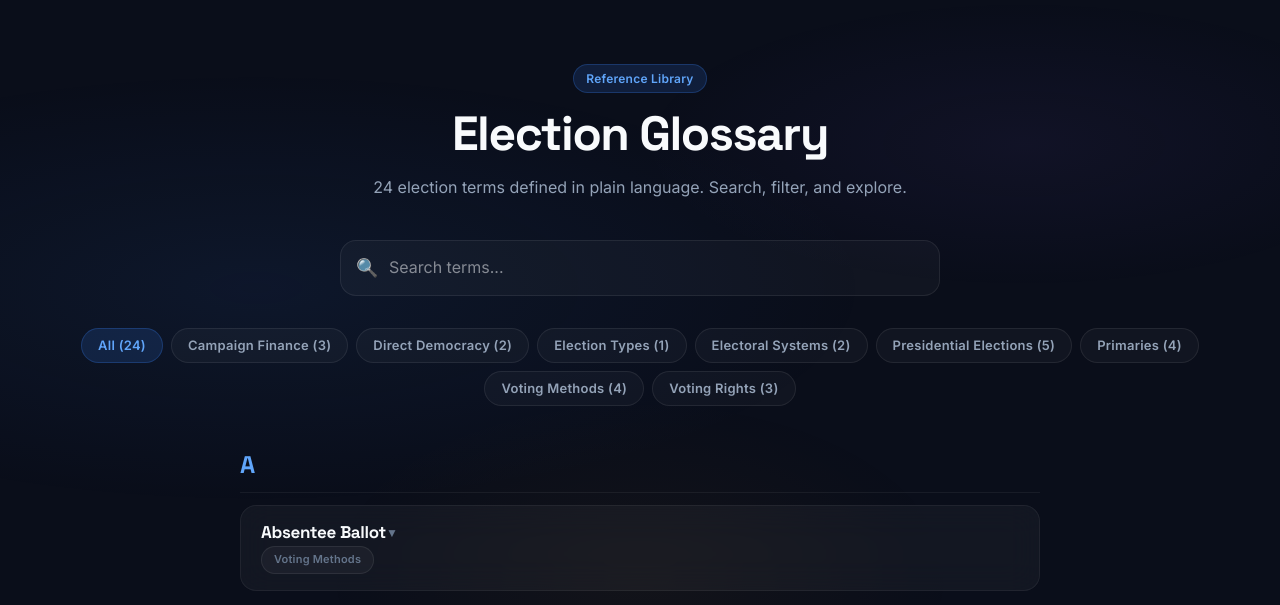
it: Glossary Page › filters terms based on category button
Step 1. Click the button "Voting Methods (4)" → (564, 388), box 484,371 -> 644,406
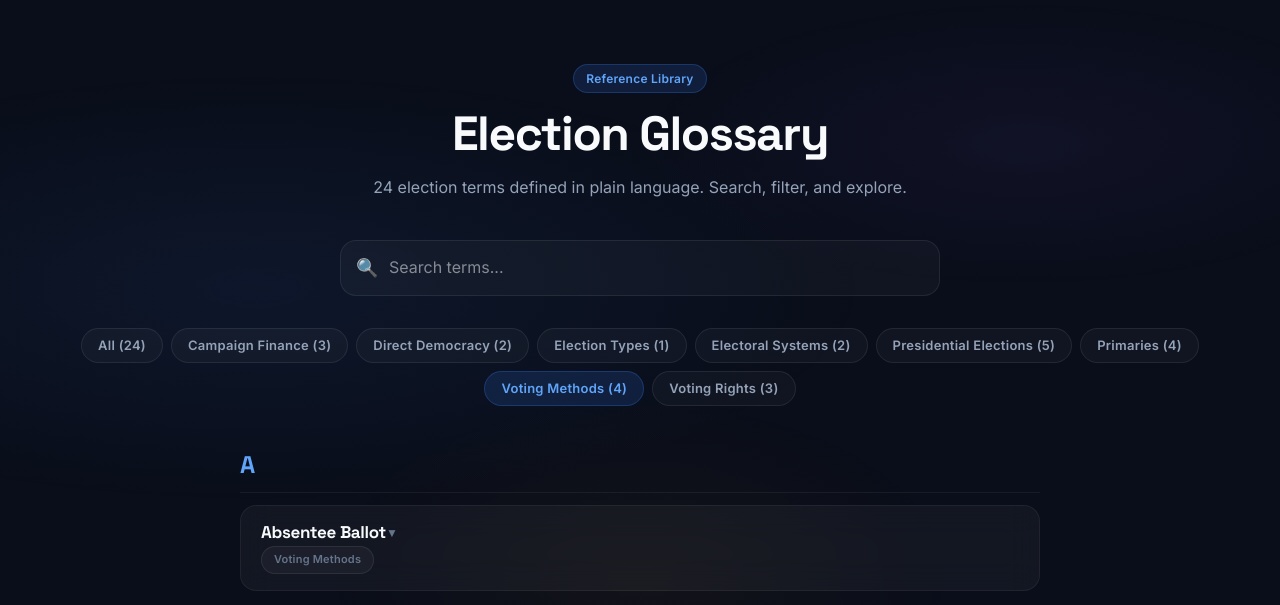
Expected: the heading "Absentee Ballot" is shown, 261,522 -> 386,542
# Click "All" button
Step 2. Click the button "All (24)" → (122, 345), box 81,328 -> 163,363
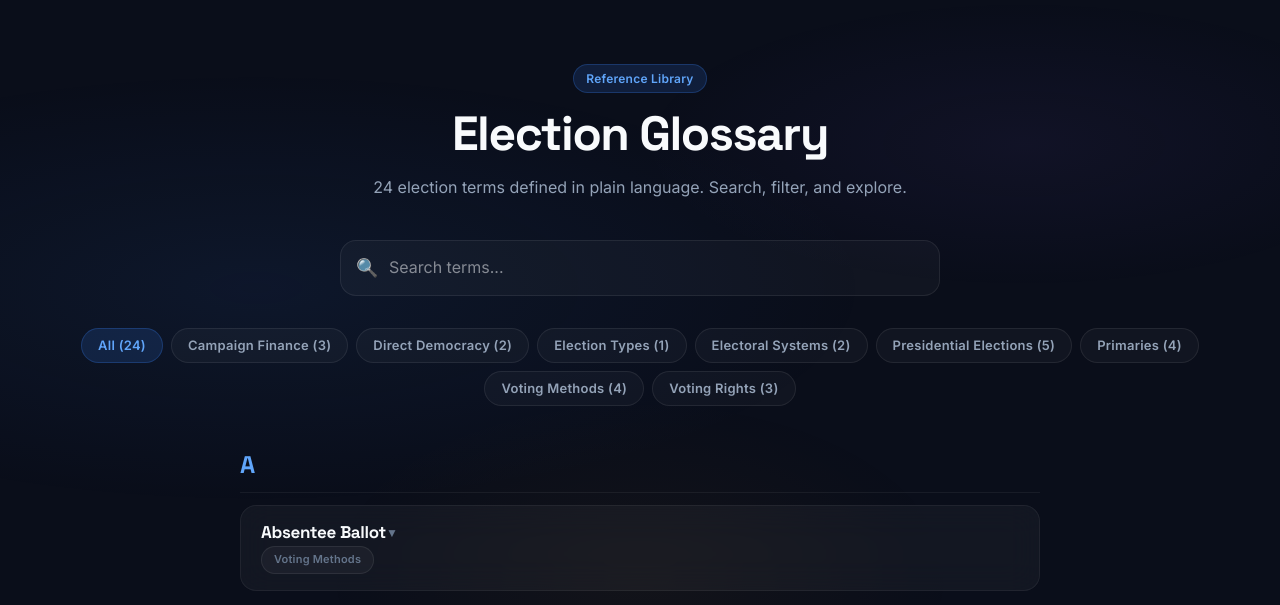
# Toggle off by clicking same category
Step 3. Click the button "Voting Methods (4)" → (564, 388), box 484,371 -> 644,406
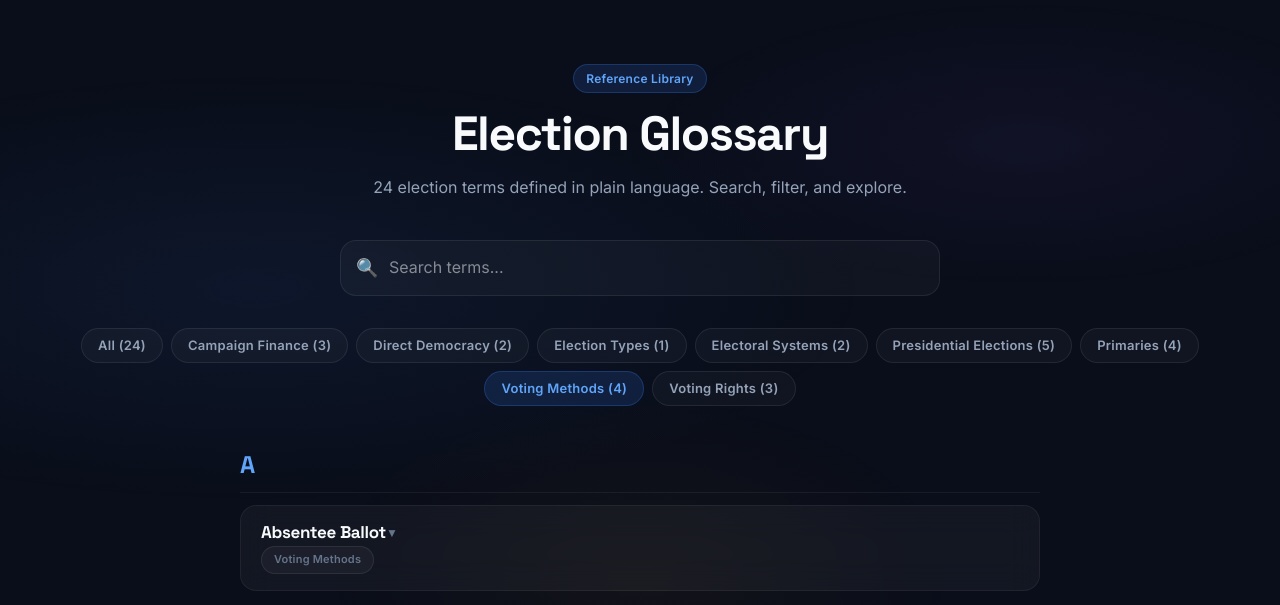
Step 4. Click the button "Voting Methods (4)" → (564, 388), box 484,371 -> 644,406
(page scrolled)
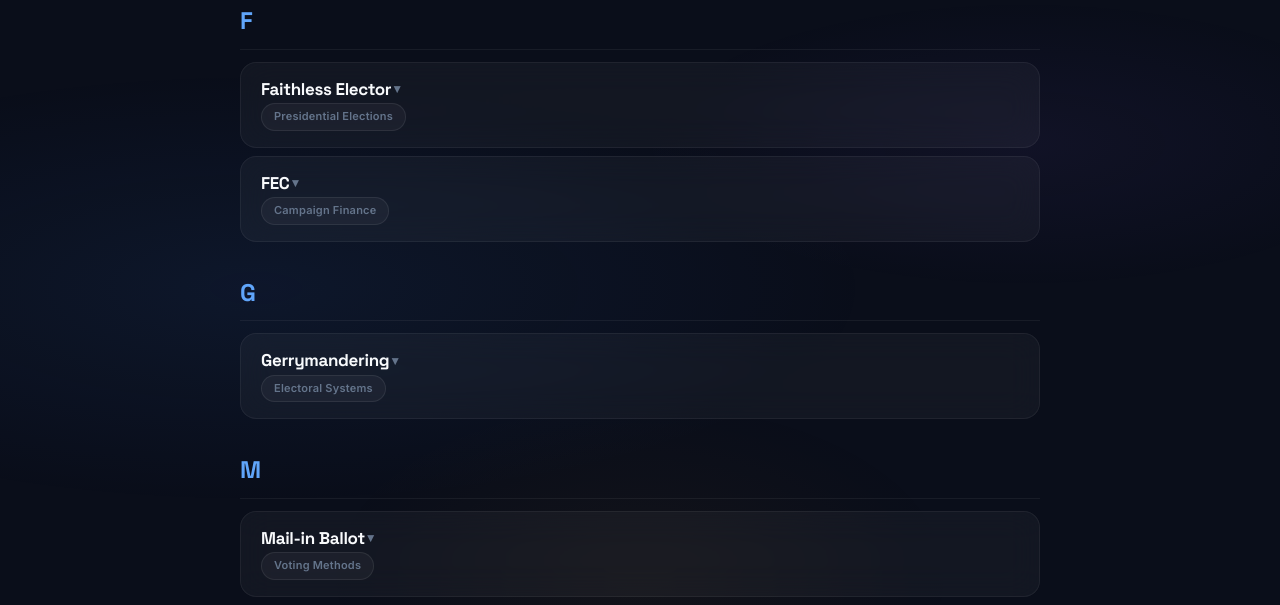
Expected: the heading "Gerrymandering" is shown, 261,350 -> 389,371
